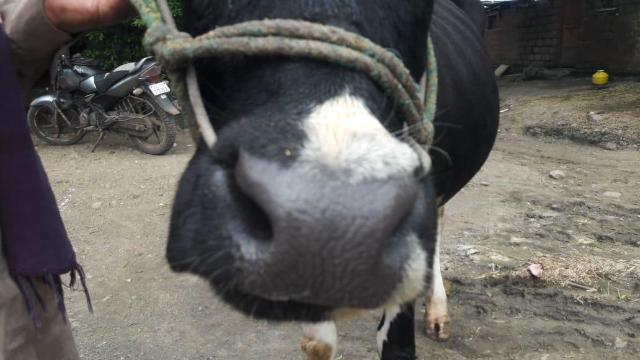Muzzle: (239, 148, 405, 300)
